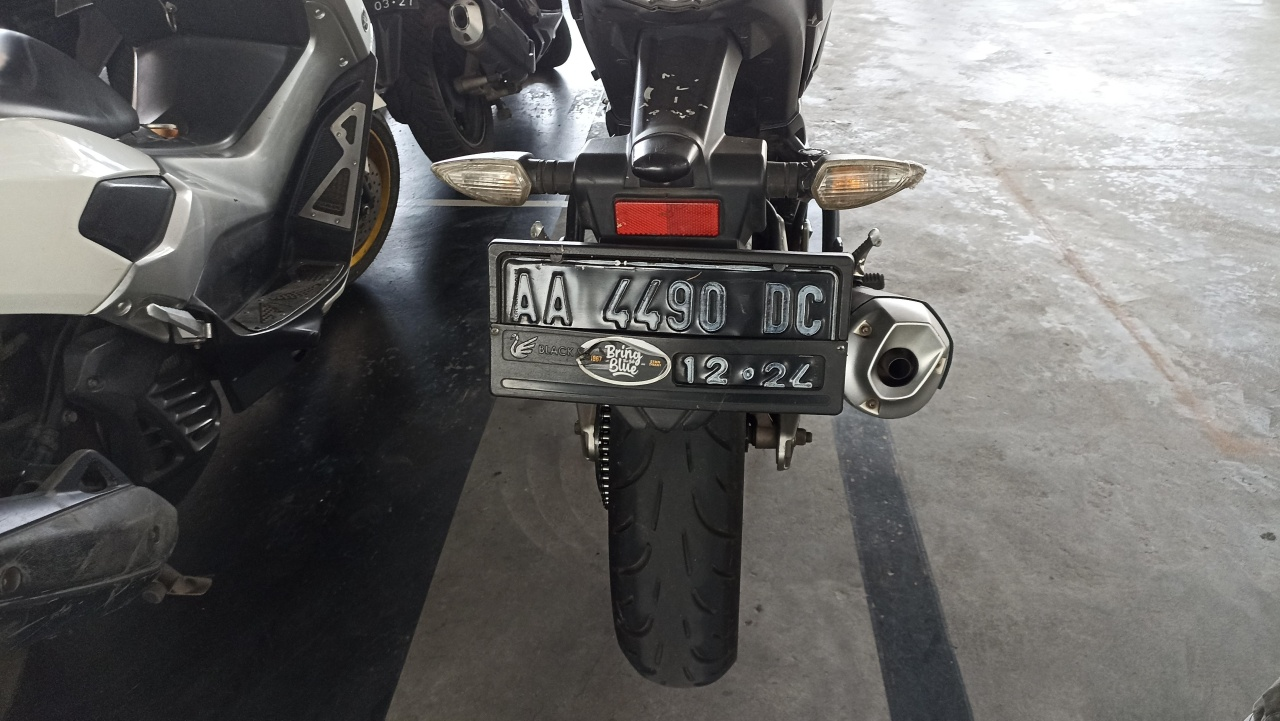plate: (497, 244, 845, 409)
